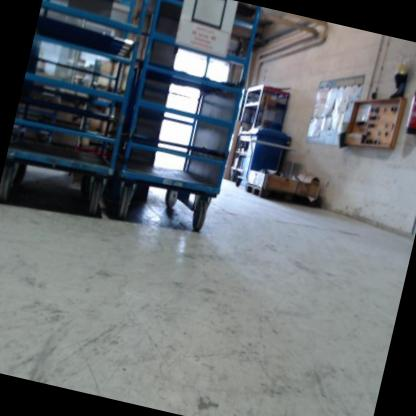pallet: (243, 183, 320, 213)
